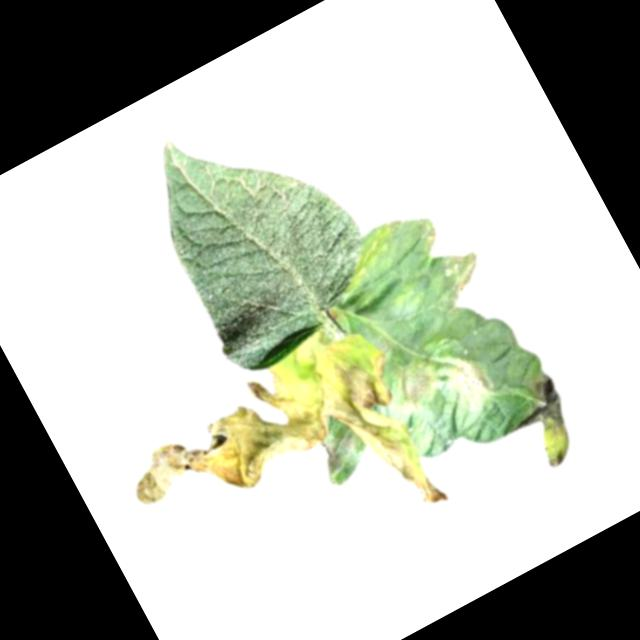Late_blight: (110, 314, 459, 632), (122, 79, 399, 383), (495, 368, 594, 478), (439, 350, 501, 420), (387, 353, 448, 419), (434, 241, 494, 301), (413, 212, 450, 255)
